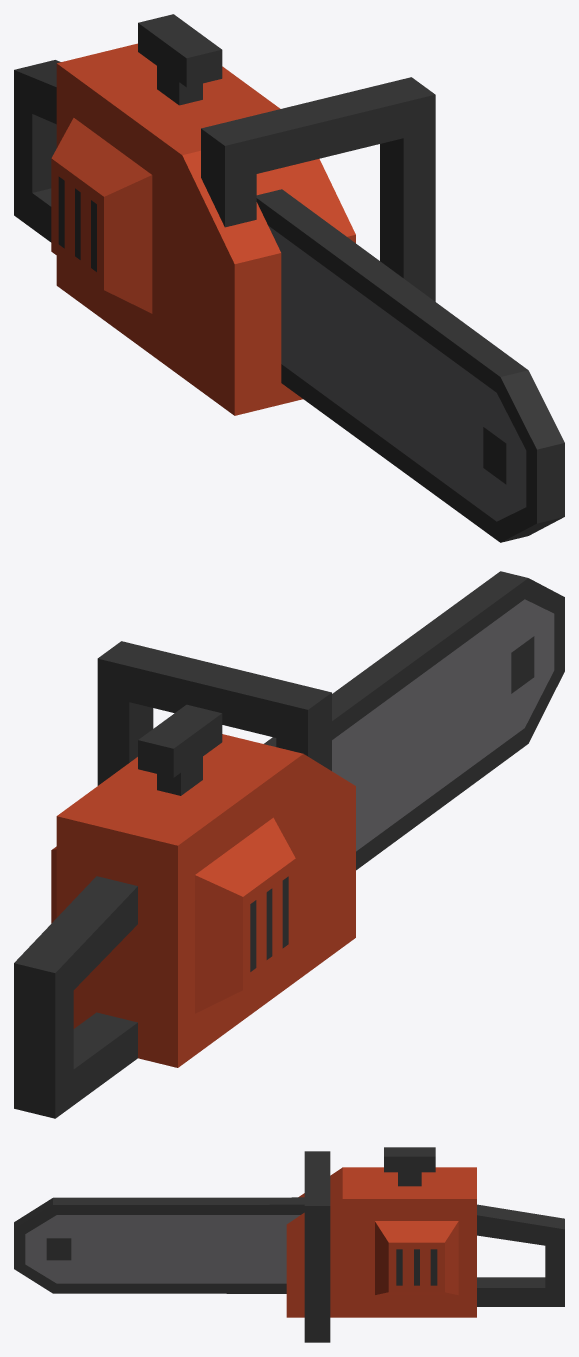
Rendered from chainsaw.obj.
The picture shows the model from 3 angles, top to bottom: view 1: azimuth 30°, elevation 25°; view 2: azimuth 150°, elevation 25°; view 3: azimuth 270°, elevation 25°; orthographic projection. The views are drawn at different scales.
Visible parts, largest first — view 1: chainsaw.obj; view 2: chainsaw.obj; view 3: chainsaw.obj.
Part boxes in pixels (box(x1,y1,x2,y2)): chainsaw.obj: box(14, 14, 564, 542); chainsaw.obj: box(14, 571, 564, 1118); chainsaw.obj: box(14, 1147, 564, 1342).
Size of the model in its own units: 0.4868 by 0.5162 by 1.72.
